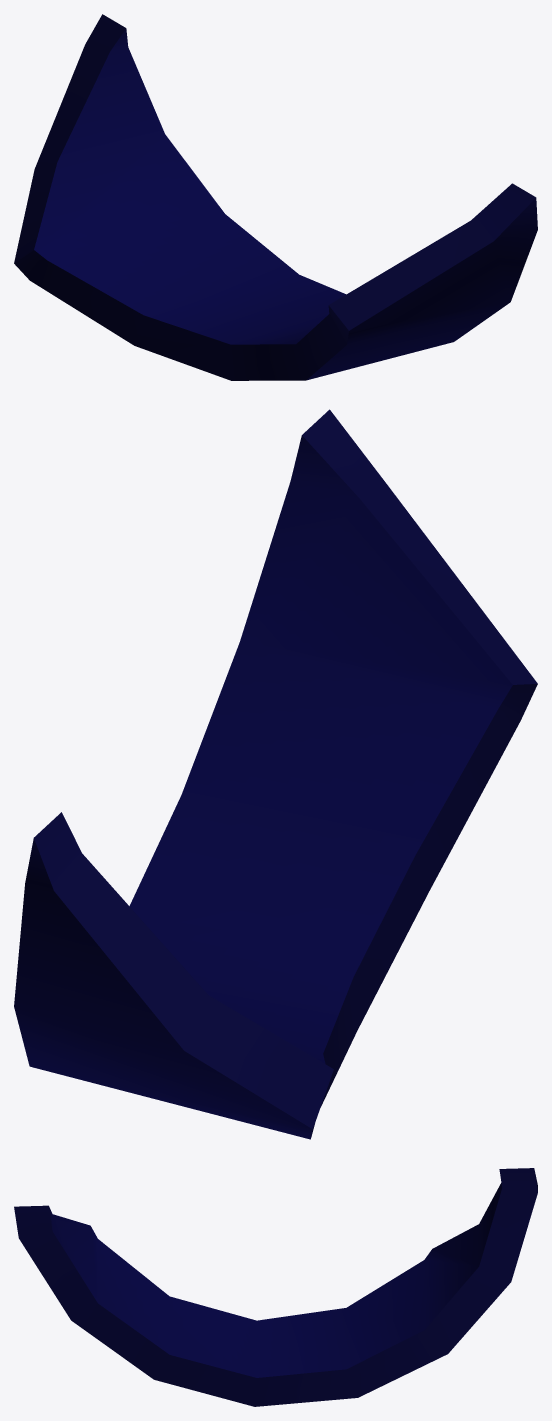
Rendered from BrokenGlassShard001.glb.
The picture shows the model from 3 angles, top to bottom: view 1: azimuth 30°, elevation 25°; view 2: azimuth 150°, elevation 25°; view 3: azimuth 270°, elevation 25°; orthographic projection. The views are drawn at different scales.
Visible parts, largest first — view 1: BrokenGlassShard001; view 2: BrokenGlassShard001; view 3: BrokenGlassShard001.
Boxes of the visible parts, x1=… form: BrokenGlassShard001: x1=14, y1=14, x2=537, y2=380; BrokenGlassShard001: x1=14, y1=409, x2=537, y2=1139; BrokenGlassShard001: x1=14, y1=1168, x2=537, y2=1406.
Bounding box in the file's own units: 0.3315 × 0.3005 × 0.6795.
